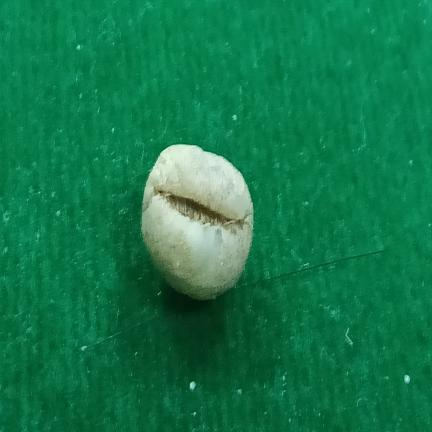cut: (142, 144, 253, 300)
